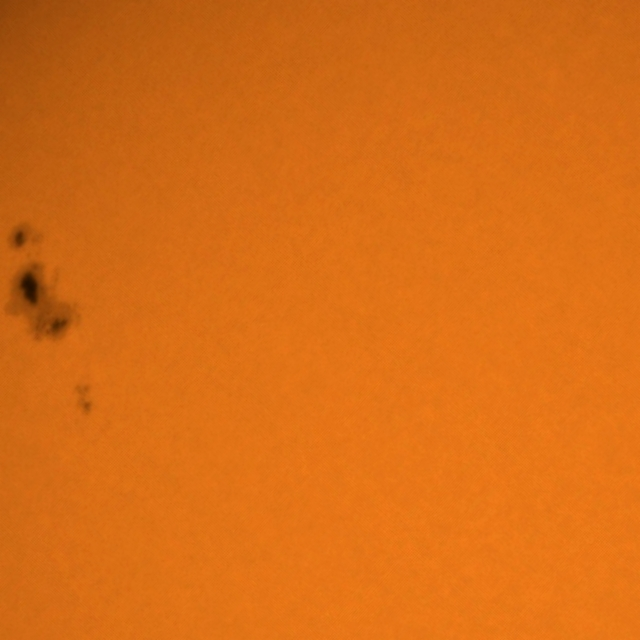sunspot: (4, 256, 60, 321), (6, 223, 47, 268), (49, 310, 76, 347), (73, 382, 95, 417)
